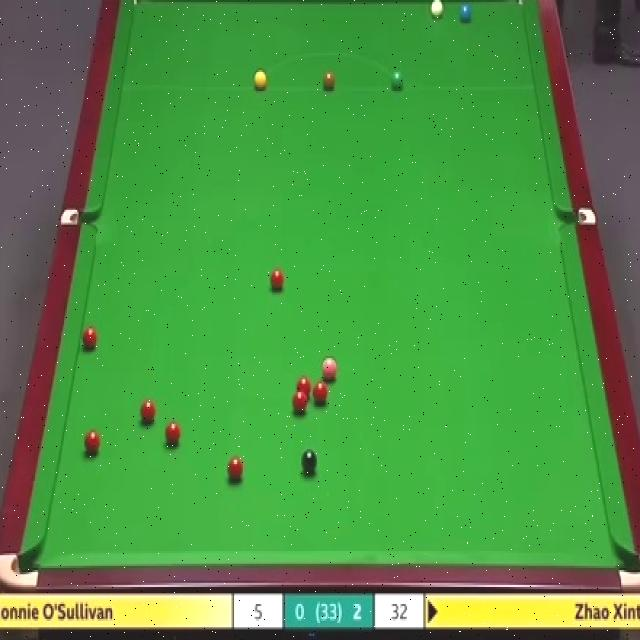black-ball: (301, 449, 319, 474)
blue-ball: (460, 3, 471, 25)
brown-ball: (322, 72, 336, 90)
green-ball: (390, 68, 405, 93)
pink-ball: (320, 360, 338, 378)
red-ball: (290, 389, 310, 414), (84, 430, 102, 457), (294, 375, 312, 401), (140, 400, 157, 427), (226, 455, 244, 480), (165, 423, 182, 448), (312, 382, 330, 405), (81, 325, 98, 348), (268, 268, 285, 290)
white-ball: (429, 0, 444, 19)
yellow-ball: (252, 69, 268, 91)
